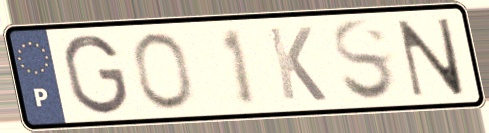1: (218, 24, 257, 110)
G: (60, 32, 131, 118)
K: (263, 24, 330, 104)
N: (394, 15, 468, 100)
O: (130, 29, 197, 112)
S: (329, 16, 401, 105)
